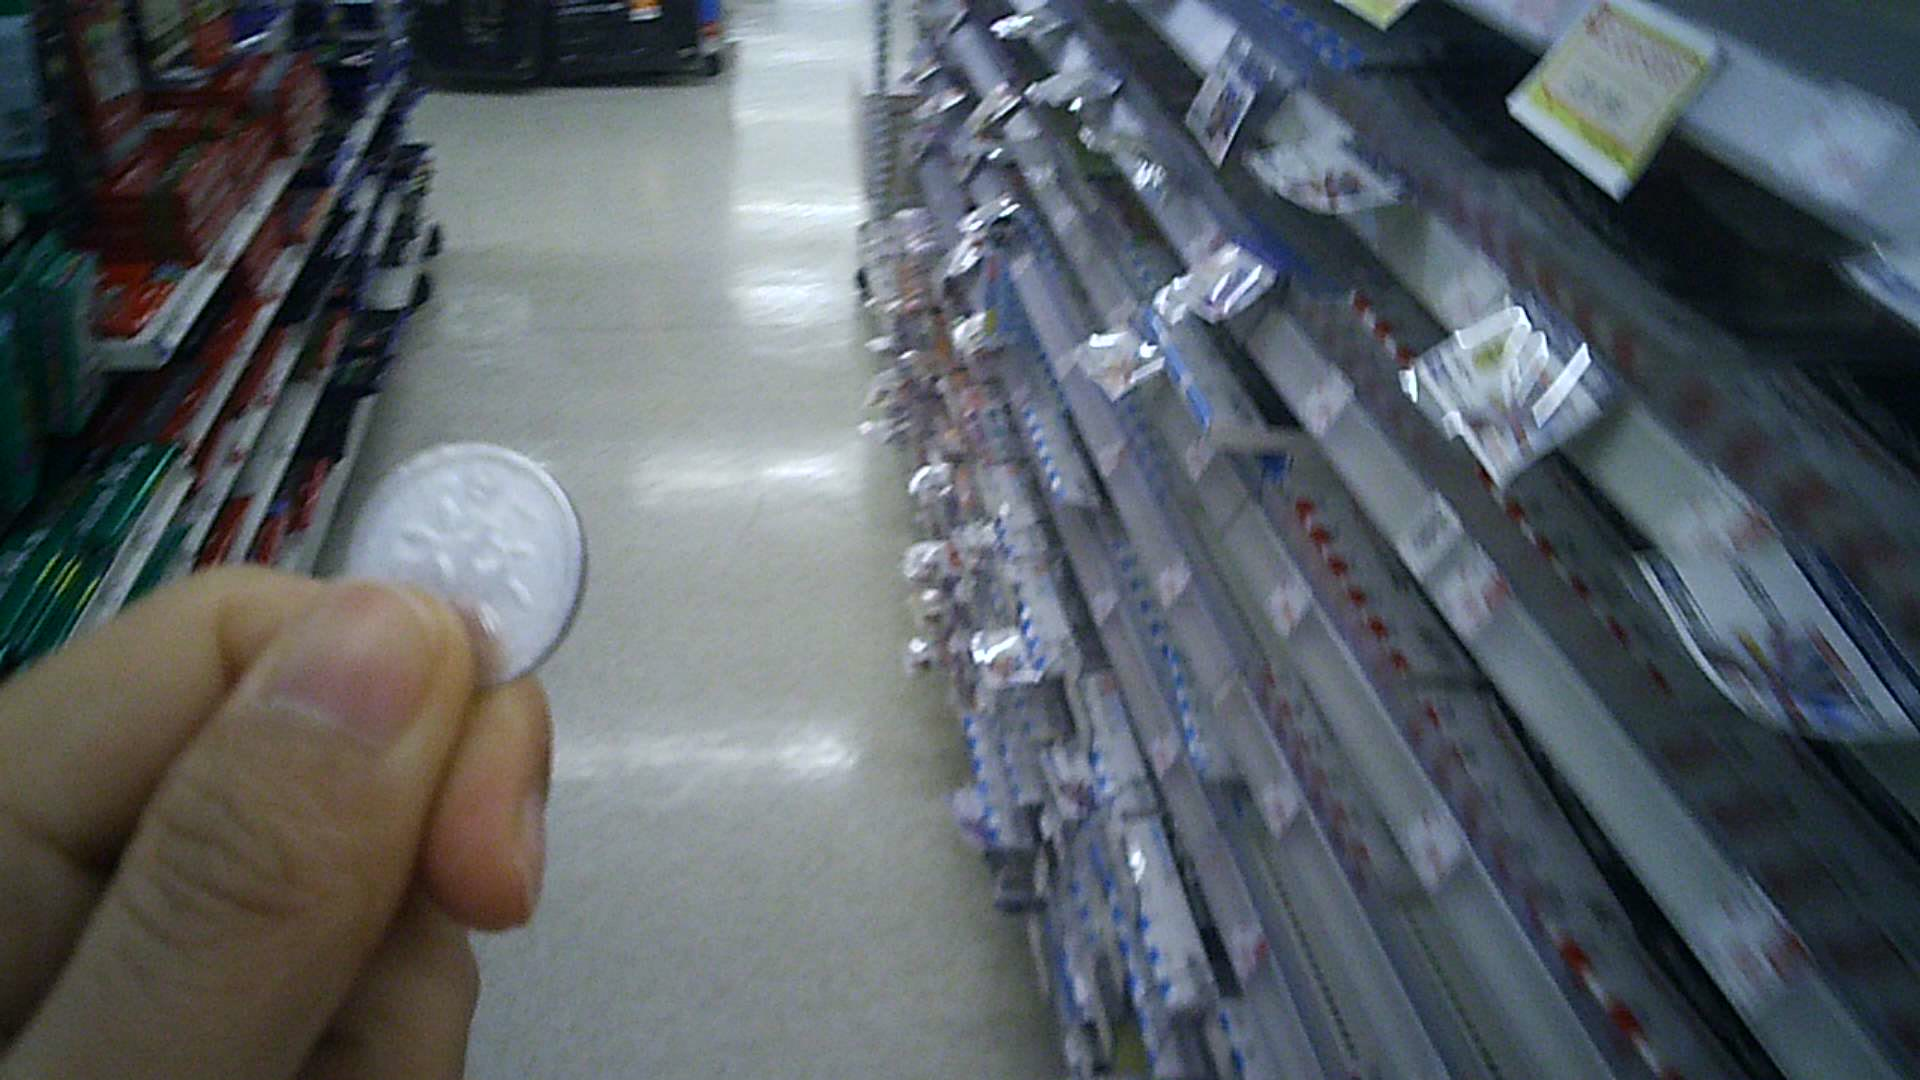1 Yen: (326, 430, 604, 696)
